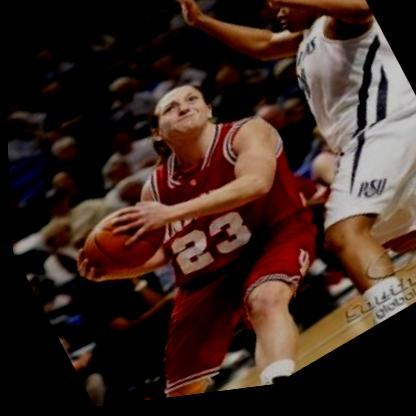basketball: (62, 184, 184, 300)
